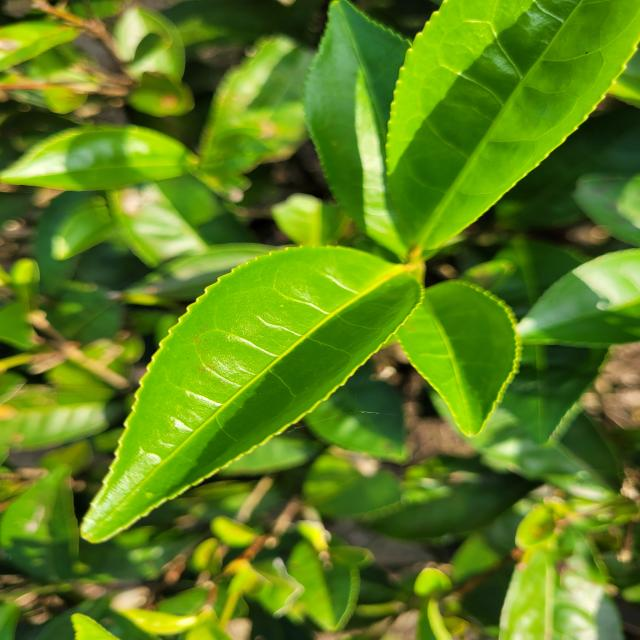Category B(2-4 days): (41, 196, 441, 569)
